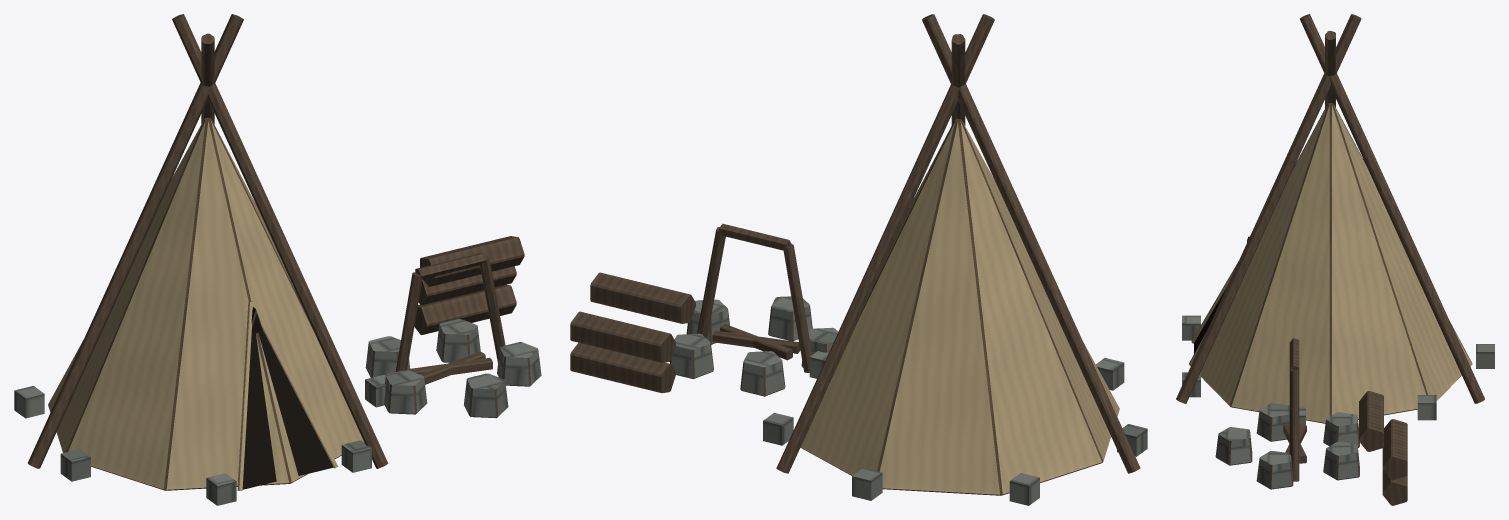
Rendered from camp.glb.
The picture shows the model from 3 angles, left to right: view 1: azimuth 30°, elevation 25°; view 2: azimuth 150°, elevation 25°; view 3: azimuth 270°, elevation 25°; orthographic projection. The views are drawn at different scales.
Visible parts, largest first — view 1: camp; view 2: camp; view 3: camp.
Boxes of the visible parts, <box> form: camp: <box>14,14,541,505</box>; camp: <box>570,14,1147,505</box>; camp: <box>1176,14,1494,505</box>.
Size of the model in its own units: 0.8642 by 0.6451 by 0.5372.
Materials: 1 (1 with a texture image).
